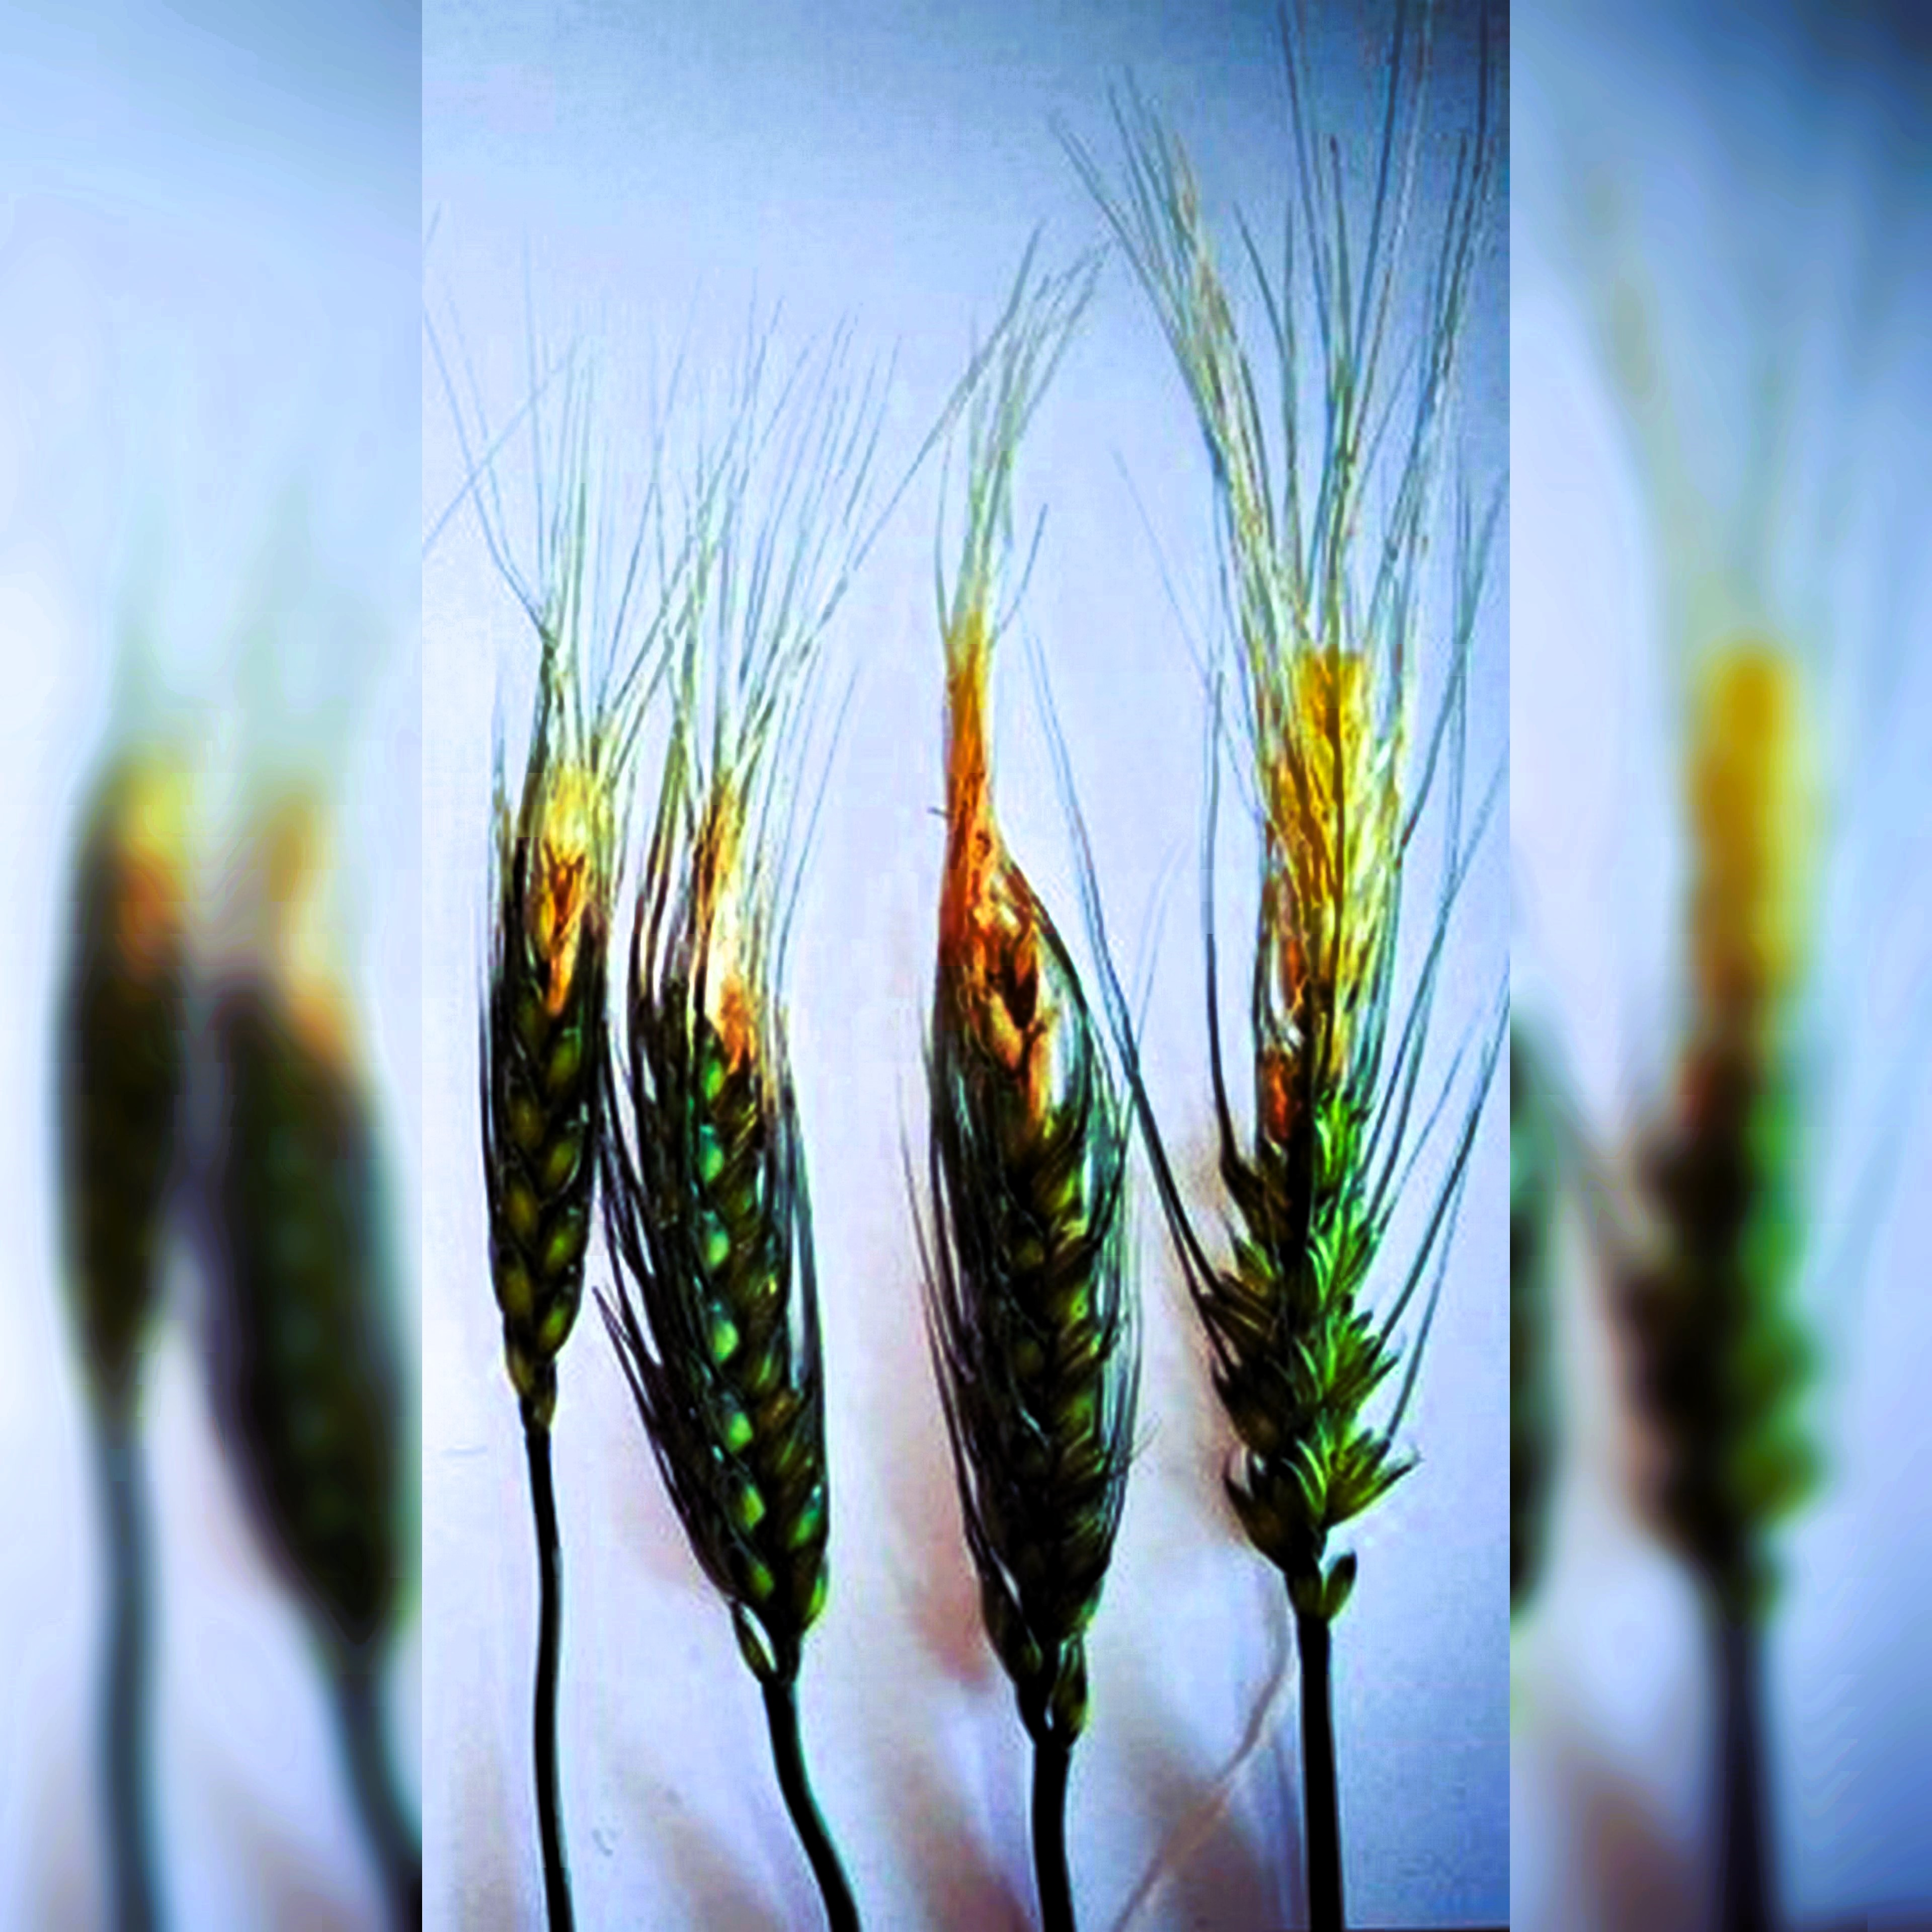Wheat scab: (888, 582, 1422, 1295), (467, 685, 837, 1520)
